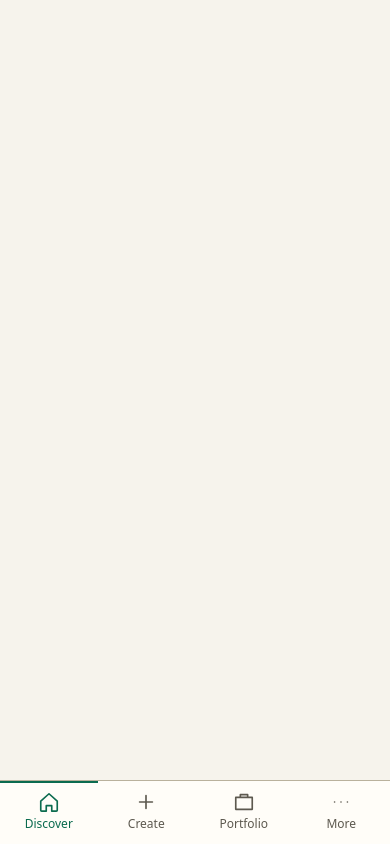
BottomTabs › steps aside on trial and token pages
The image size is (390, 844).
Expected: the links read "Discover", "Create", "Portfolio", in this order, [0,781,98,843]; [128,791,165,832]; [219,791,268,832]
Click the button "More" at (341, 813), box [292,781,389,843]
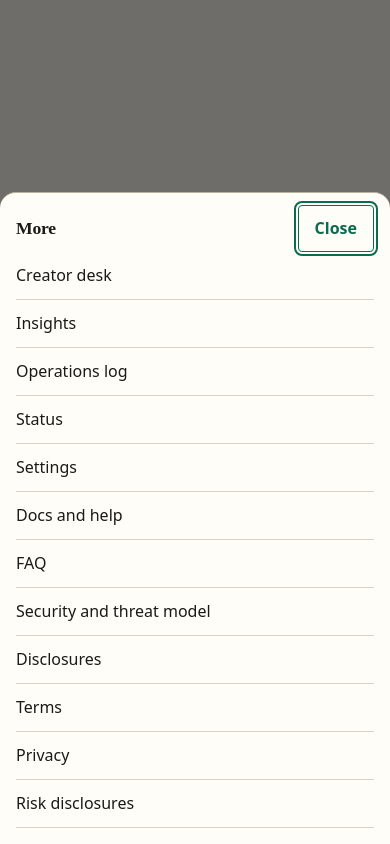
Now the dialog "More" is shown
